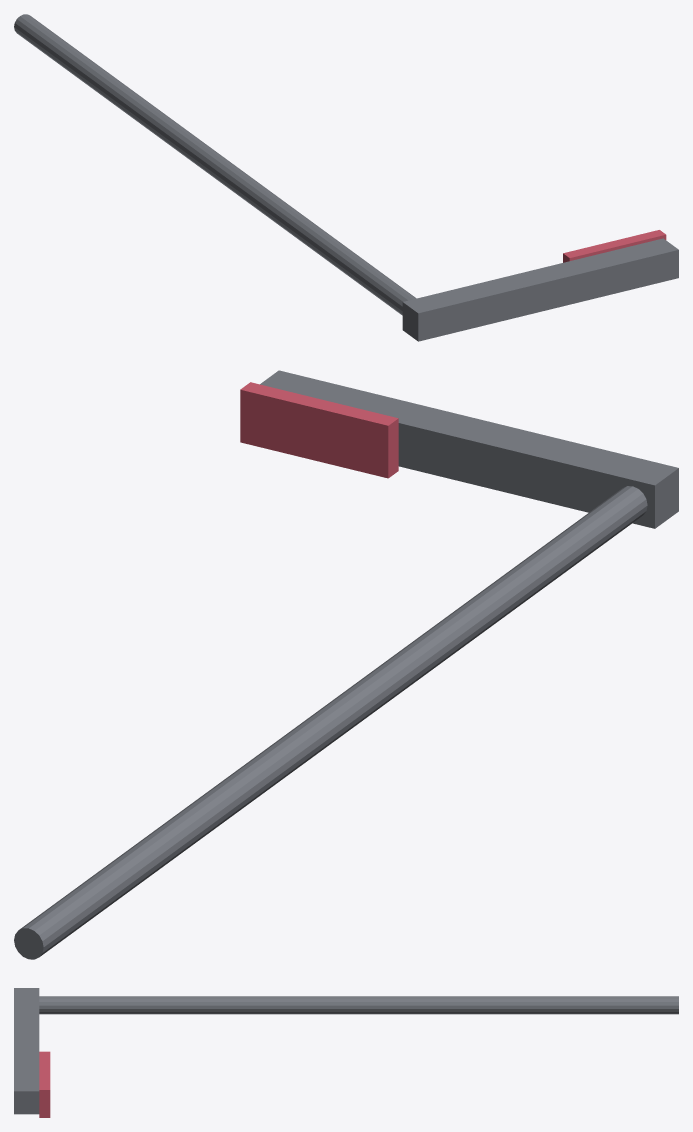
File: street_light_v01.glb
The picture shows the model from 3 angles, top to bottom: view 1: azimuth 30°, elevation 25°; view 2: azimuth 150°, elevation 25°; view 3: azimuth 270°, elevation 25°; orthographic projection. The views are drawn at different scales.
Parts seen in each view (by area): view 1: box_1, cylinder_0, box_2; view 2: cylinder_0, box_1, box_2; view 3: cylinder_0, box_1, box_2.
Boxes of the visible parts, x1,y1,x2,y2 form: box_1: (402,238,678,341); cylinder_0: (14,14,416,315); box_2: (563,230,666,262); cylinder_0: (14,486,647,959); box_1: (260,370,678,528); box_2: (240,382,398,478); cylinder_0: (39,996,678,1014); box_1: (14,988,39,1114); box_2: (39,1051,50,1117).
Bounding box in the file's own units: 1.36 × 0.17 × 3.67.
